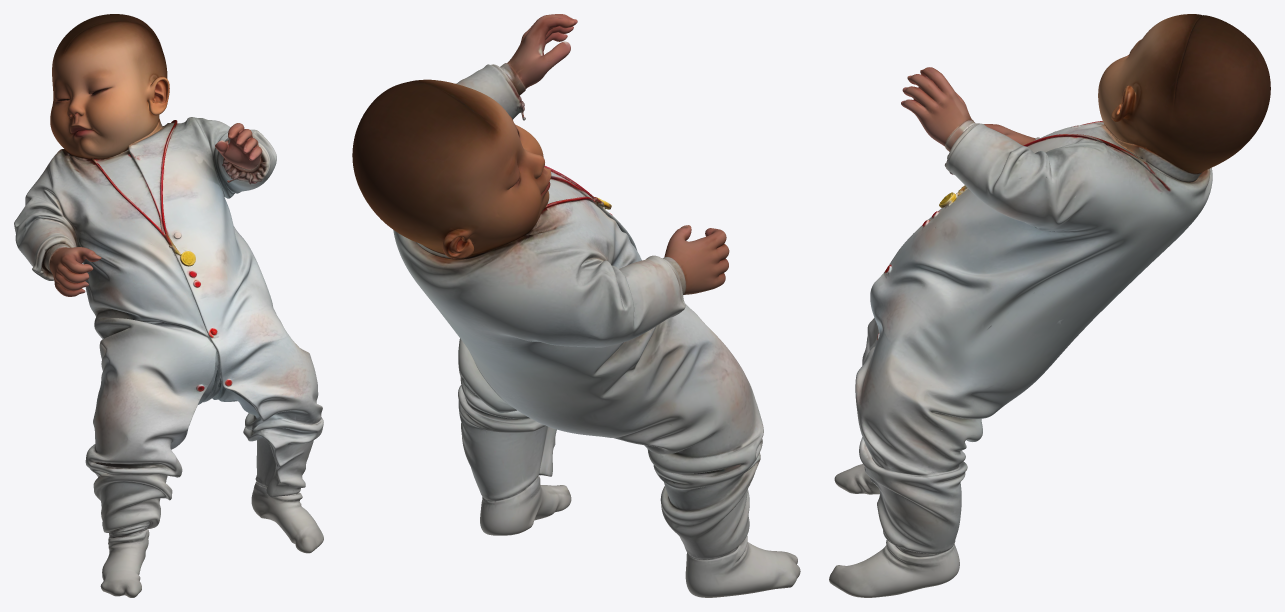
File: baby_model.glb
3 renders of one model, left to right at view 1: azimuth 30°, elevation 25°; view 2: azimuth 150°, elevation 25°; view 3: azimuth 270°, elevation 25°, orthographic. The views are drawn at different scales.
Visible parts, largest first — view 1: node_0; view 2: node_0; view 3: node_0.
Boxes of the visible parts, x1,y1,x2,y2 form: node_0: (14, 14, 323, 597); node_0: (352, 14, 800, 597); node_0: (829, 14, 1270, 597).
Bounding box in the file's own units: 0.506 × 0.9164 × 0.6823.
Materials: 1 (1 with a texture image).
